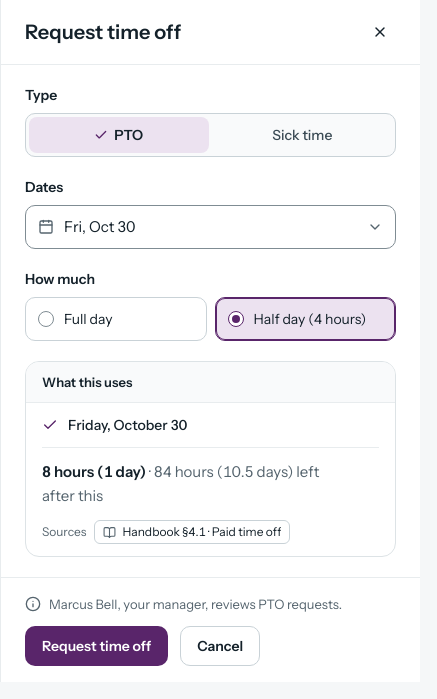
Test case: RequestForm, in a bottom sheet › RequestForm, how much follows the type › goes back to Full day when Half day is chosen and the type changes to sick time
Click the radio button labelled "Sick time".
click(302, 135)  # box [212,117,392,153]
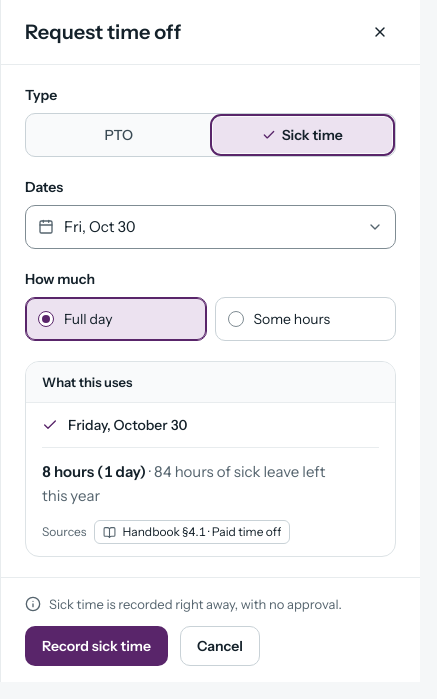
Check: the radio button labelled "Full day" is checked, box [25,297,206,341]
